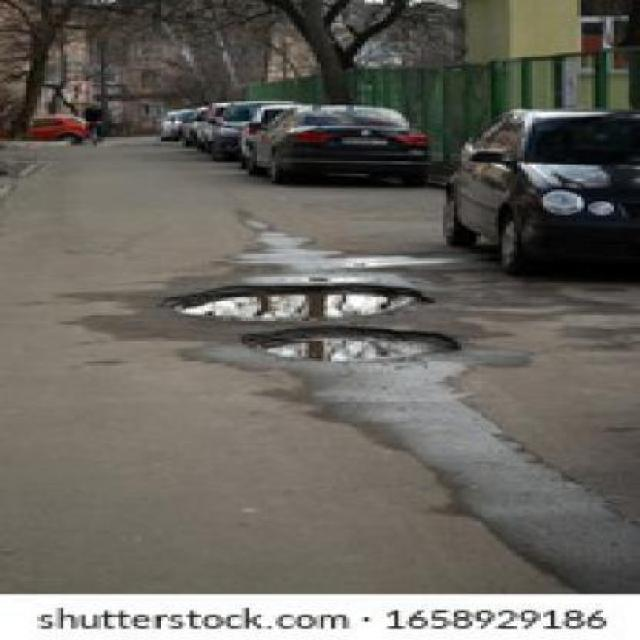Buraco: (153, 280, 441, 322), (237, 324, 466, 368)
